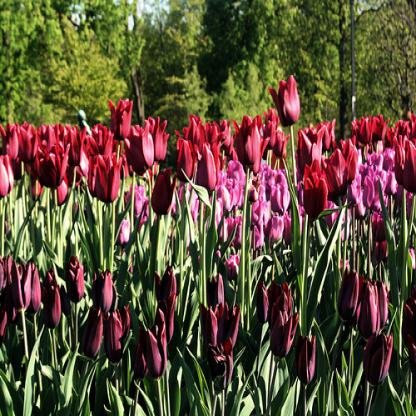TULIP: (10, 73, 406, 402)
